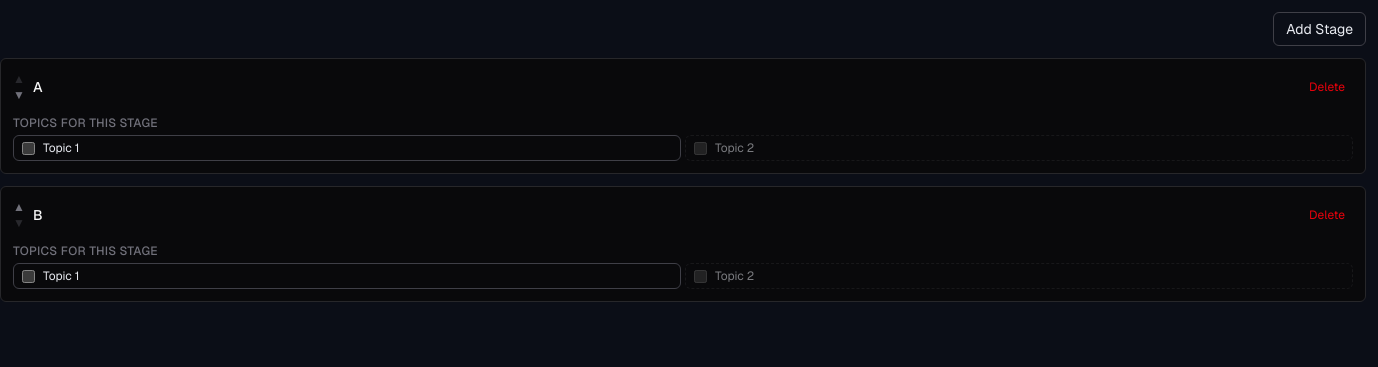
Test: StageEditor › reverts and toasts when reorder fails
This screenshot has width=1378, height=367.
Click the button named "Move A down" at (19, 95), box [13,87,25,103]
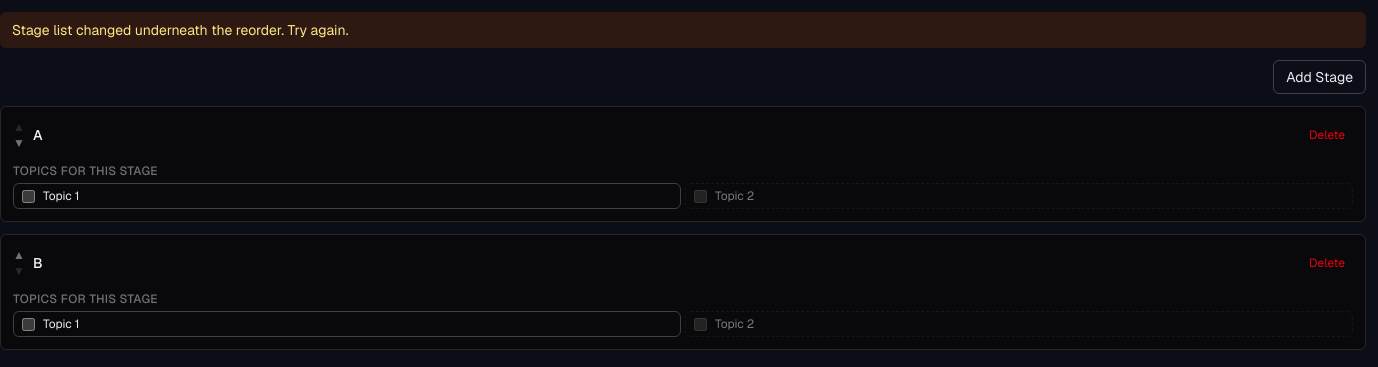
Now the text "Stage list changed underneath the reorder. Try again." is shown, box [0,12,1366,48]
